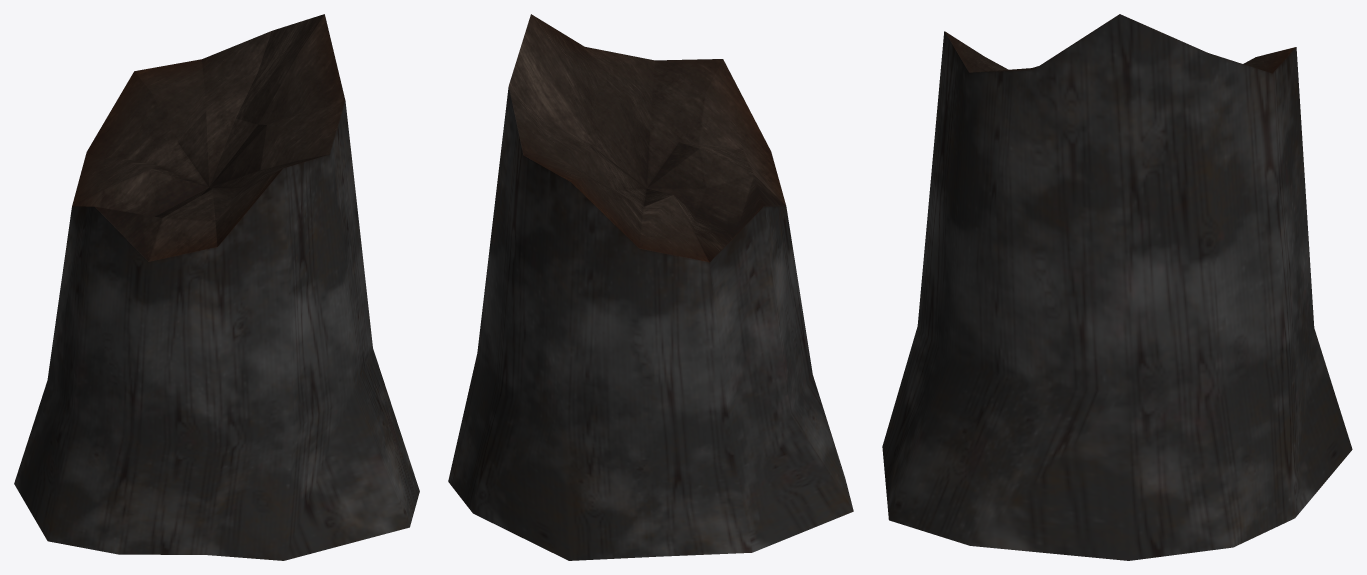
Rendered from broken tree_02.fbx.
3 renders of one model, left to right at view 1: azimuth 30°, elevation 25°; view 2: azimuth 150°, elevation 25°; view 3: azimuth 270°, elevation 25°, orthographic. The views are drawn at different scales.
Visible parts, largest first — view 1: broken_tree_02; view 2: broken_tree_02; view 3: broken_tree_02.
Part boxes in pixels (x1=…): broken_tree_02: x1=14, y1=14, x2=419, y2=560; broken_tree_02: x1=448, y1=14, x2=853, y2=560; broken_tree_02: x1=882, y1=14, x2=1352, y2=560.
Size of the model in its own units: 0.8331 by 0.9778 by 0.8107.
Materials: 1 (1 with a texture image).
